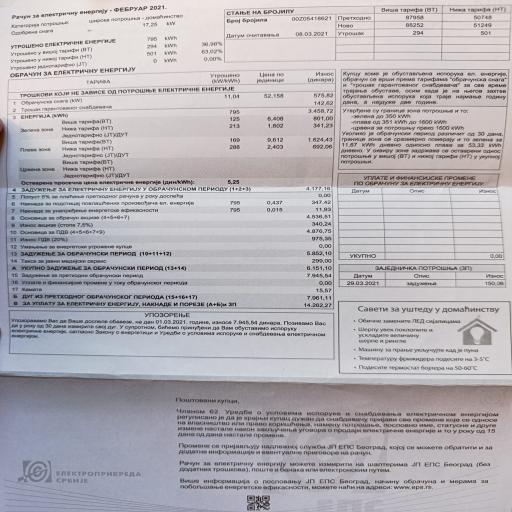racun_za_struju: (6, 60, 340, 195)
